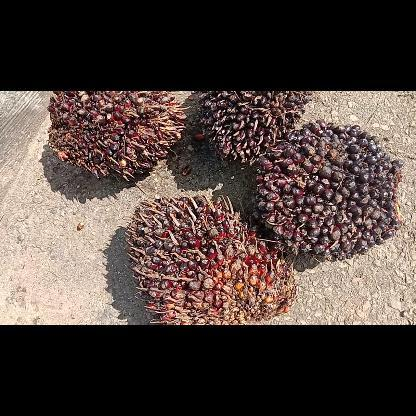TBS mentah: (124, 188, 296, 324), (251, 119, 403, 259), (46, 90, 190, 180), (198, 91, 308, 164)
